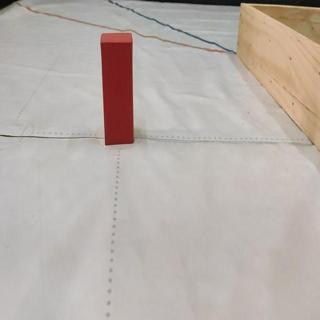redbox: (100, 31, 134, 146)
